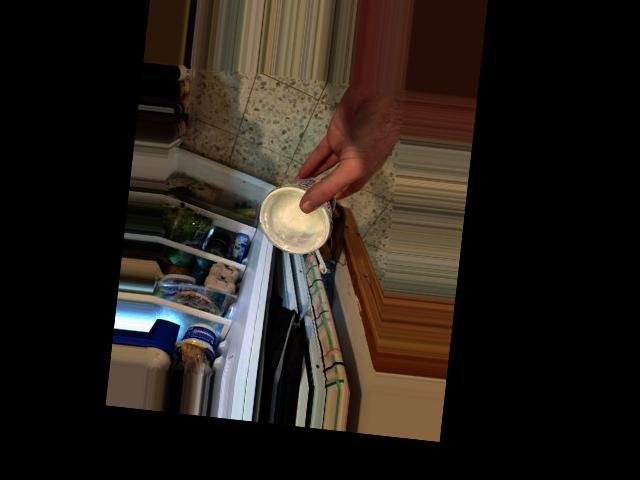cotage: (262, 170, 337, 262)
